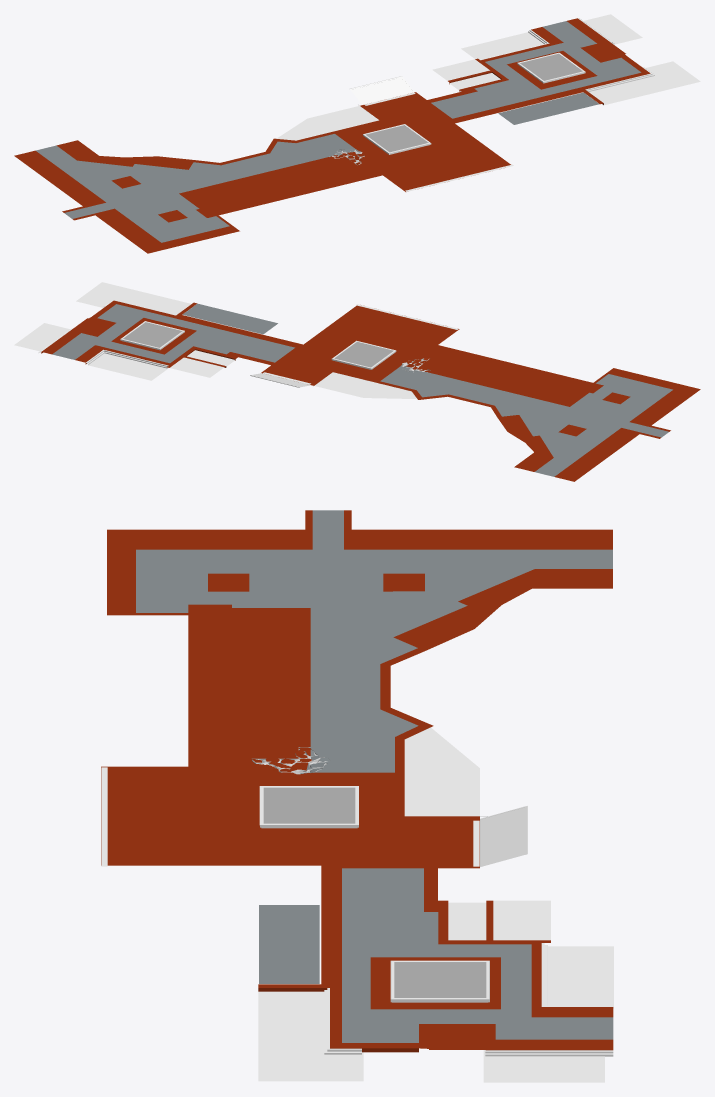
The model's file is SM_H_Building_Tide_Loungehall_24_ATLAS.fbx.
The picture shows the model from 3 angles, top to bottom: view 1: azimuth 30°, elevation 25°; view 2: azimuth 150°, elevation 25°; view 3: azimuth 270°, elevation 25°; orthographic projection. The views are drawn at different scales.
Parts seen in each view (by area): view 1: SM_H_Building_Tide_Loungehall_24_ATLAS; view 2: SM_H_Building_Tide_Loungehall_24_ATLAS; view 3: SM_H_Building_Tide_Loungehall_24_ATLAS.
Part boxes in pixels (x1,y1,x2,y2): SM_H_Building_Tide_Loungehall_24_ATLAS: (14, 14, 700, 253); SM_H_Building_Tide_Loungehall_24_ATLAS: (14, 282, 700, 481); SM_H_Building_Tide_Loungehall_24_ATLAS: (101, 510, 613, 1082).
Bounding box in the file's own units: 10158 × 3872 × 145.
